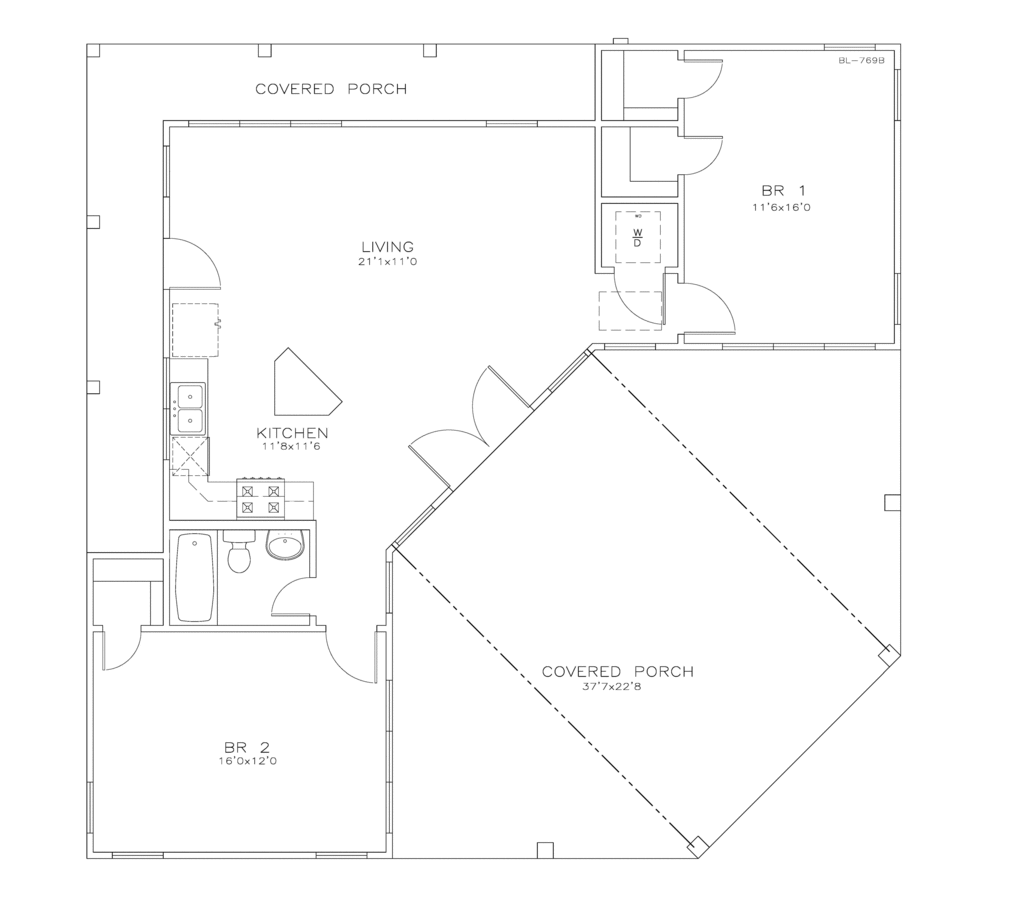door: (402, 352, 541, 505), (147, 229, 231, 298), (602, 254, 675, 326), (678, 276, 746, 338), (320, 620, 382, 688), (669, 131, 738, 191), (668, 53, 736, 109), (95, 619, 151, 682), (269, 569, 319, 627)
kitchen_bar: (189, 464, 316, 523)
large_sink: (213, 522, 255, 588)
small_sink: (254, 520, 312, 561)
tub: (161, 526, 220, 630)
twin_sink: (165, 374, 209, 440)
window: (374, 672, 403, 840), (182, 114, 351, 136), (109, 841, 168, 871), (303, 845, 378, 867), (481, 114, 550, 137), (719, 343, 877, 353), (84, 779, 105, 838), (157, 141, 177, 198)
